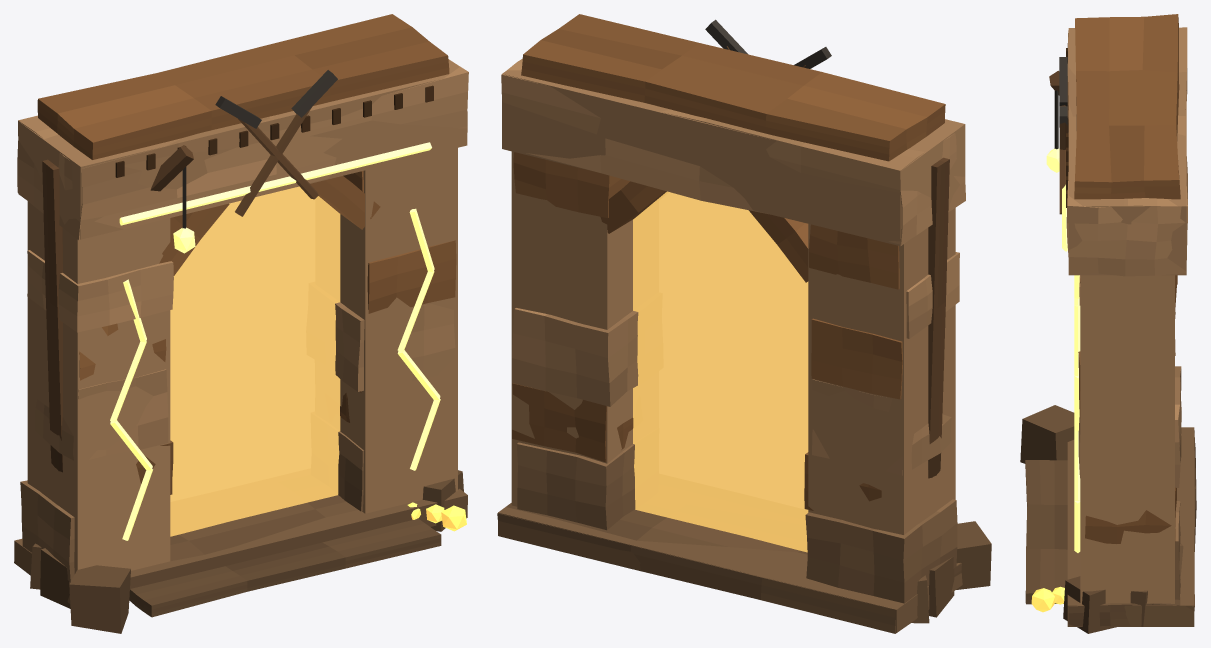
The model's file is portal_quarry.glb.
The picture shows the model from 3 angles, left to right: view 1: azimuth 30°, elevation 25°; view 2: azimuth 150°, elevation 25°; view 3: azimuth 270°, elevation 25°; orthographic projection. The views are drawn at different scales.
Parts seen in each view (by area): view 1: Far_Body, Surface_Near, Surface_Far, Lintel, Base, Pillar_L, Pillar_R, Motif_GoldVein, Motif_Scaffold, Motif_Pick, Motif_GoldNuggets; view 2: Far_Body, Surface_Near, Surface_Far, Lintel, Pillar_R, Pillar_L, Base, Motif_Scaffold, Motif_Pick; view 3: Far_Body, Lintel, Base, Pillar_R, Motif_GoldVein, Motif_Pick, Motif_Scaffold, Motif_GoldNuggets, Pillar_L.
Part boxes in pixels (x1,y1,x2,y2): Far_Body: (14, 59, 467, 603); Surface_Near: (170, 186, 340, 536); Surface_Far: (170, 187, 340, 536); Lintel: (17, 14, 468, 275); Base: (14, 470, 467, 633); Pillar_L: (20, 250, 173, 581); Pillar_R: (335, 171, 456, 511); Motif_GoldVein: (110, 142, 440, 540); Motif_Scaffold: (42, 145, 195, 472); Motif_Pick: (215, 70, 337, 216); Motif_GoldNuggets: (407, 502, 466, 531); Far_Body: (498, 70, 965, 633); Surface_Near: (633, 191, 808, 551); Surface_Far: (633, 192, 808, 552); Lintel: (501, 14, 965, 282); Pillar_R: (512, 152, 638, 530); Pillar_L: (804, 224, 959, 603); Base: (497, 503, 991, 633); Motif_Scaffold: (928, 157, 949, 478); Motif_Pick: (705, 19, 831, 68); Far_Body: (1067, 28, 1194, 626); Lintel: (1066, 14, 1187, 282); Base: (1020, 405, 1196, 633); Pillar_R: (1078, 275, 1181, 599); Motif_GoldVein: (1062, 184, 1080, 552); Motif_Pick: (1059, 57, 1068, 214); Motif_Scaffold: (1046, 70, 1059, 172); Motif_GoldNuggets: (1031, 586, 1064, 612); Pillar_L: (1079, 275, 1181, 462).
Bounding box in the file's own units: 2.67 × 3.02 × 1.04.
